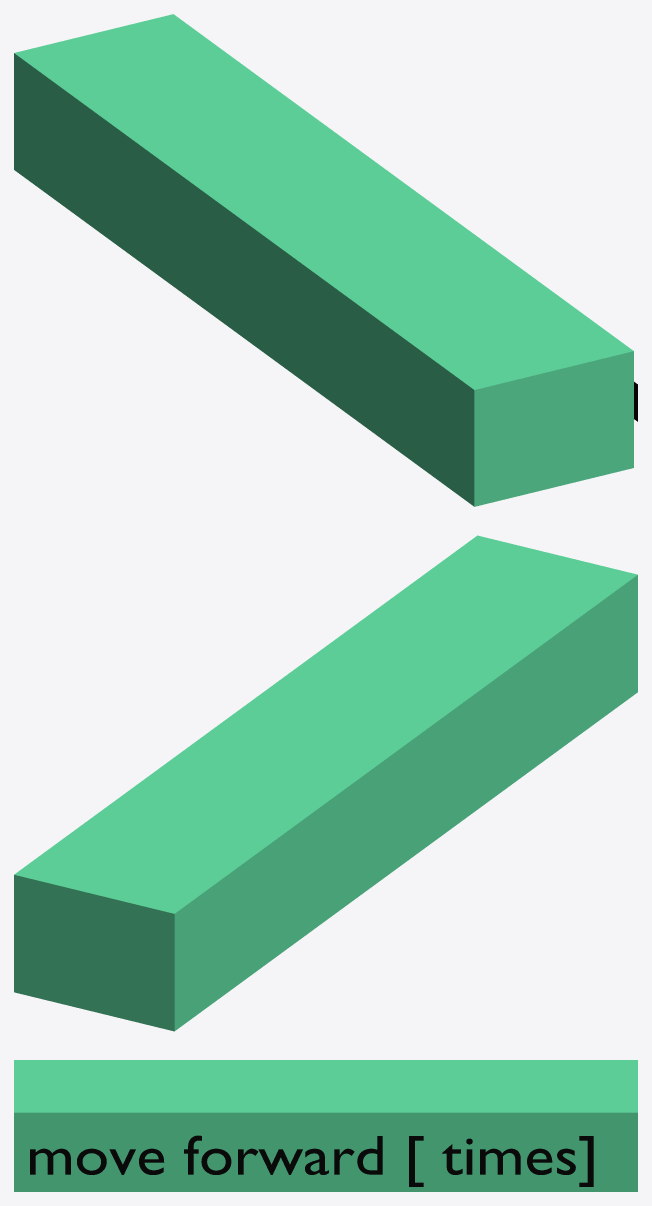
Rendered from Move Forward.fbx.
3 renders of one model, top to bottom at view 1: azimuth 30°, elevation 25°; view 2: azimuth 150°, elevation 25°; view 3: azimuth 270°, elevation 25°, orthographic. The views are drawn at different scales.
Visible parts, largest first — view 1: Cube.004; view 2: Cube.004; view 3: Cube.004, move forward.001.
Part boxes in pixels (x1,y1,x2,y2): Cube.004: (14, 14, 633, 506); Cube.004: (14, 535, 637, 1031); Cube.004: (14, 1060, 637, 1191); move forward.001: (30, 1135, 593, 1186).
Size of the model in its own units: 110 by 70 by 500.
